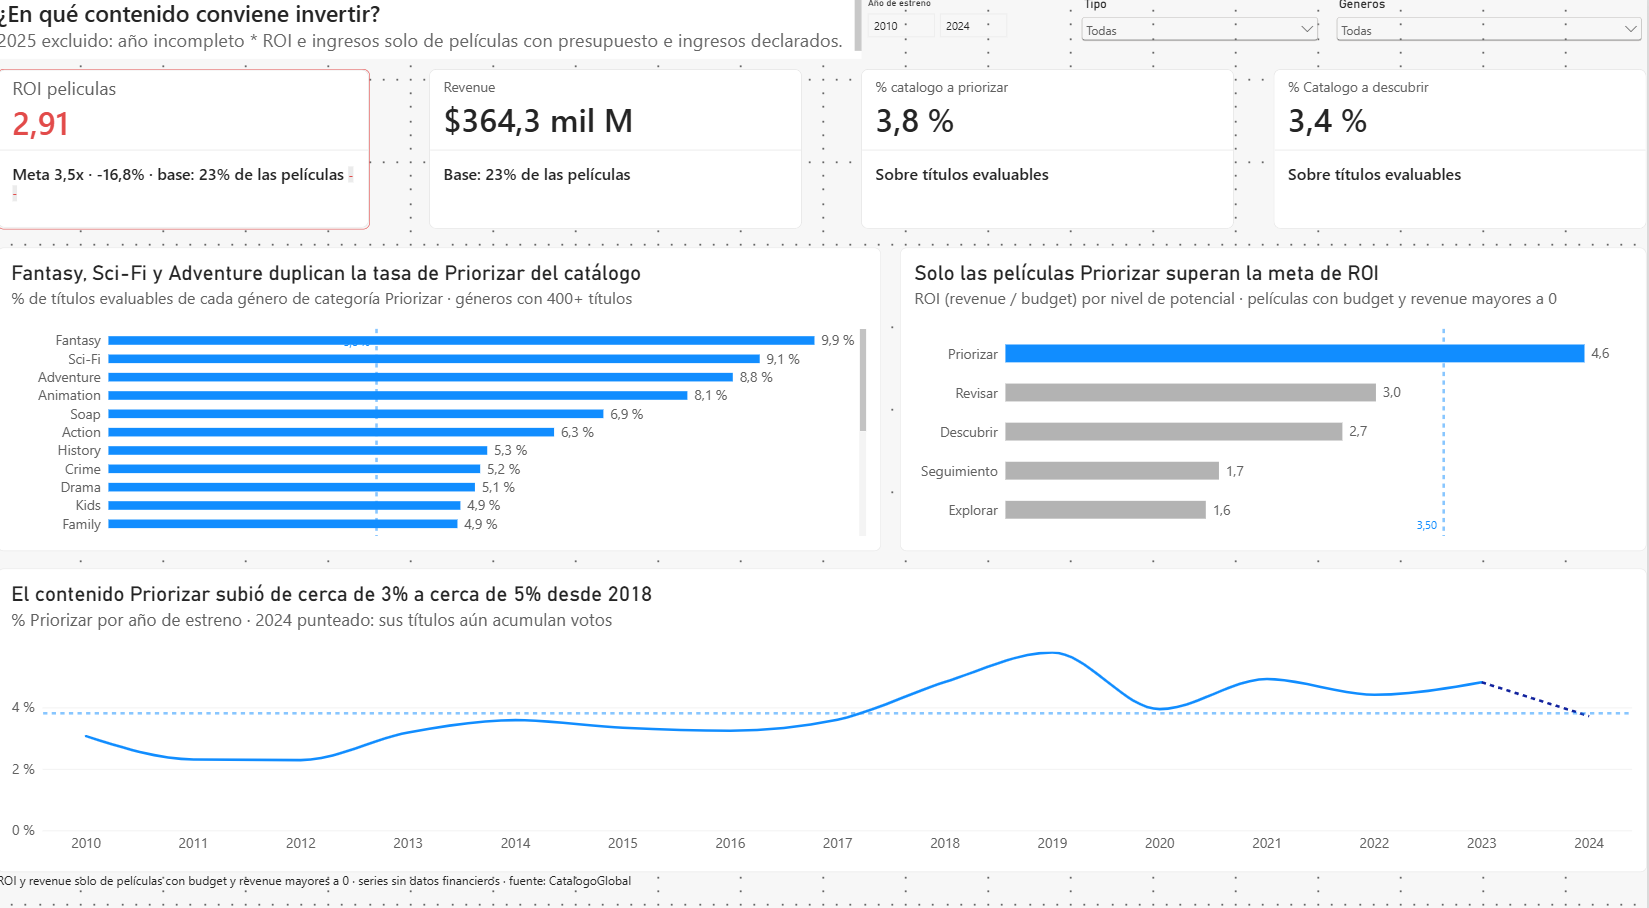

The dashboard page shown, as its layout file describes it:
{"tool":"powerbi","page":{"name":"DashboardEjecutivoMejorado","canvas":[1920,1080],"ordinal":2},"visuals":[{"type":"cardVisual","fields":{"Data":["CatalogoGlobal.% A descubrir"]},"box":[1485.7,83.1,434.3,186.9],"z":0},{"type":"slicer","fields":{"Values":["GenerosCG.genres"]},"box":[1554.3,0,365.7,72.7],"z":1000},{"type":"slicer","fields":{"Values":["CatalogoGlobal.type"]},"box":[1257.1,0,285.7,71.4],"z":2000},{"type":"slicer","fields":{"Values":["CatalogoGlobal.release_year"]},"box":[1006,0,526,72],"z":3000},{"type":"cardVisual","fields":{"Data":["CatalogoGlobal.% Alto potencial"]},"box":[1005.7,83.1,434.3,186.9],"z":4000},{"type":"textbox","box":[0,0,1006,72],"z":5000},{"type":"cardVisual","fields":{"Data":["CatalogoGlobal.ROIcg"]},"box":[0,83.1,434.3,186.9],"z":6000},{"type":"cardVisual","fields":{"Data":["CatalogoGlobal.Revenue base ROI"]},"box":[502.9,83.1,434.3,186.9],"z":7000},{"type":"clusteredBarChart","title":"Fantasy, Sci-Fi y Adventure duplican la tasa de Priorizar del catálogo","fields":{"Category":["GenerosCG.genres"],"Y":["CatalogoGlobal.Priorizar"]},"box":[0,290.8,1028.6,353.1],"z":8000},{"type":"clusteredBarChart","title":"Solo las películas Priorizar superan la meta de ROI","fields":{"Category":["DimNivel.Nivel"],"Y":["CatalogoGlobal.ROIcg"]},"box":[1051.4,290.8,868.6,353.1],"z":9000},{"type":"lineChart","title":"El contenido Priorizar subió de cerca de 3% a cerca de 5% desde 2018","fields":{"Category":["CatalogoGlobal.release_year"],"Y":["CatalogoGlobal.Priorizar consolidado","CatalogoGlobal.Priorizar provisional"]},"box":[0,664.6,1920,353.1],"z":10000},{"type":"textbox","box":[0,1017.7,1920,62.3],"z":11000}]}

Visuals, with their boxes in screenshot pixels (x1, y1, x2, y2), scaled from the page's 1920x1080 canvas onto the 1649x908 screenshot:
cardVisual - CatalogoGlobal.% A descubrir: pyautogui.locateOnScreen(1276, 70, 1648, 227)
slicer - GenerosCG.genres: pyautogui.locateOnScreen(1335, 0, 1648, 61)
slicer - CatalogoGlobal.type: pyautogui.locateOnScreen(1080, 0, 1325, 60)
slicer - CatalogoGlobal.release_year: pyautogui.locateOnScreen(864, 0, 1316, 61)
cardVisual - CatalogoGlobal.% Alto potencial: pyautogui.locateOnScreen(864, 70, 1237, 227)
textbox: pyautogui.locateOnScreen(0, 0, 864, 61)
cardVisual - CatalogoGlobal.ROIcg: pyautogui.locateOnScreen(0, 70, 373, 227)
cardVisual - CatalogoGlobal.Revenue base ROI: pyautogui.locateOnScreen(432, 70, 805, 227)
"Fantasy, Sci-Fi y Adventure duplican la tasa de Priorizar del catálogo" clusteredBarChart: pyautogui.locateOnScreen(0, 244, 883, 541)
"Solo las películas Priorizar superan la meta de ROI" clusteredBarChart: pyautogui.locateOnScreen(903, 244, 1648, 541)
"El contenido Priorizar subió de cerca de 3% a cerca de 5% desde 2018" lineChart: pyautogui.locateOnScreen(0, 559, 1648, 856)
textbox: pyautogui.locateOnScreen(0, 856, 1648, 907)
